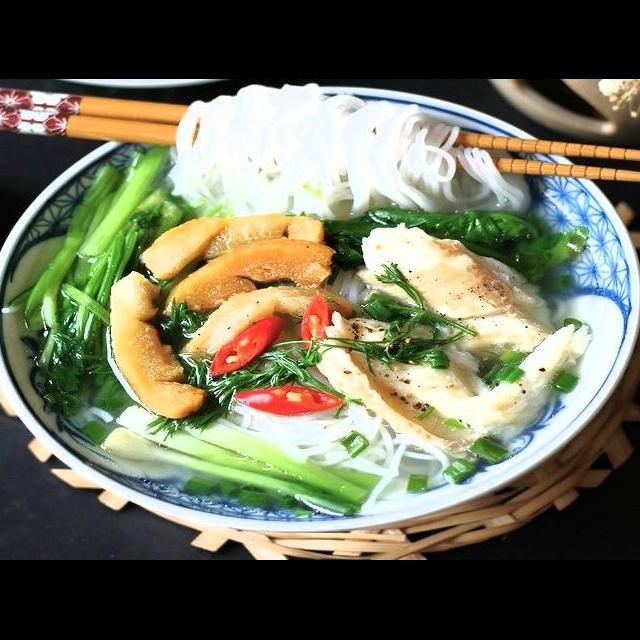bun: (165, 80, 542, 228), (223, 399, 455, 514)
bun ca: (7, 111, 640, 560)
ca: (309, 302, 602, 454), (348, 218, 558, 359)
